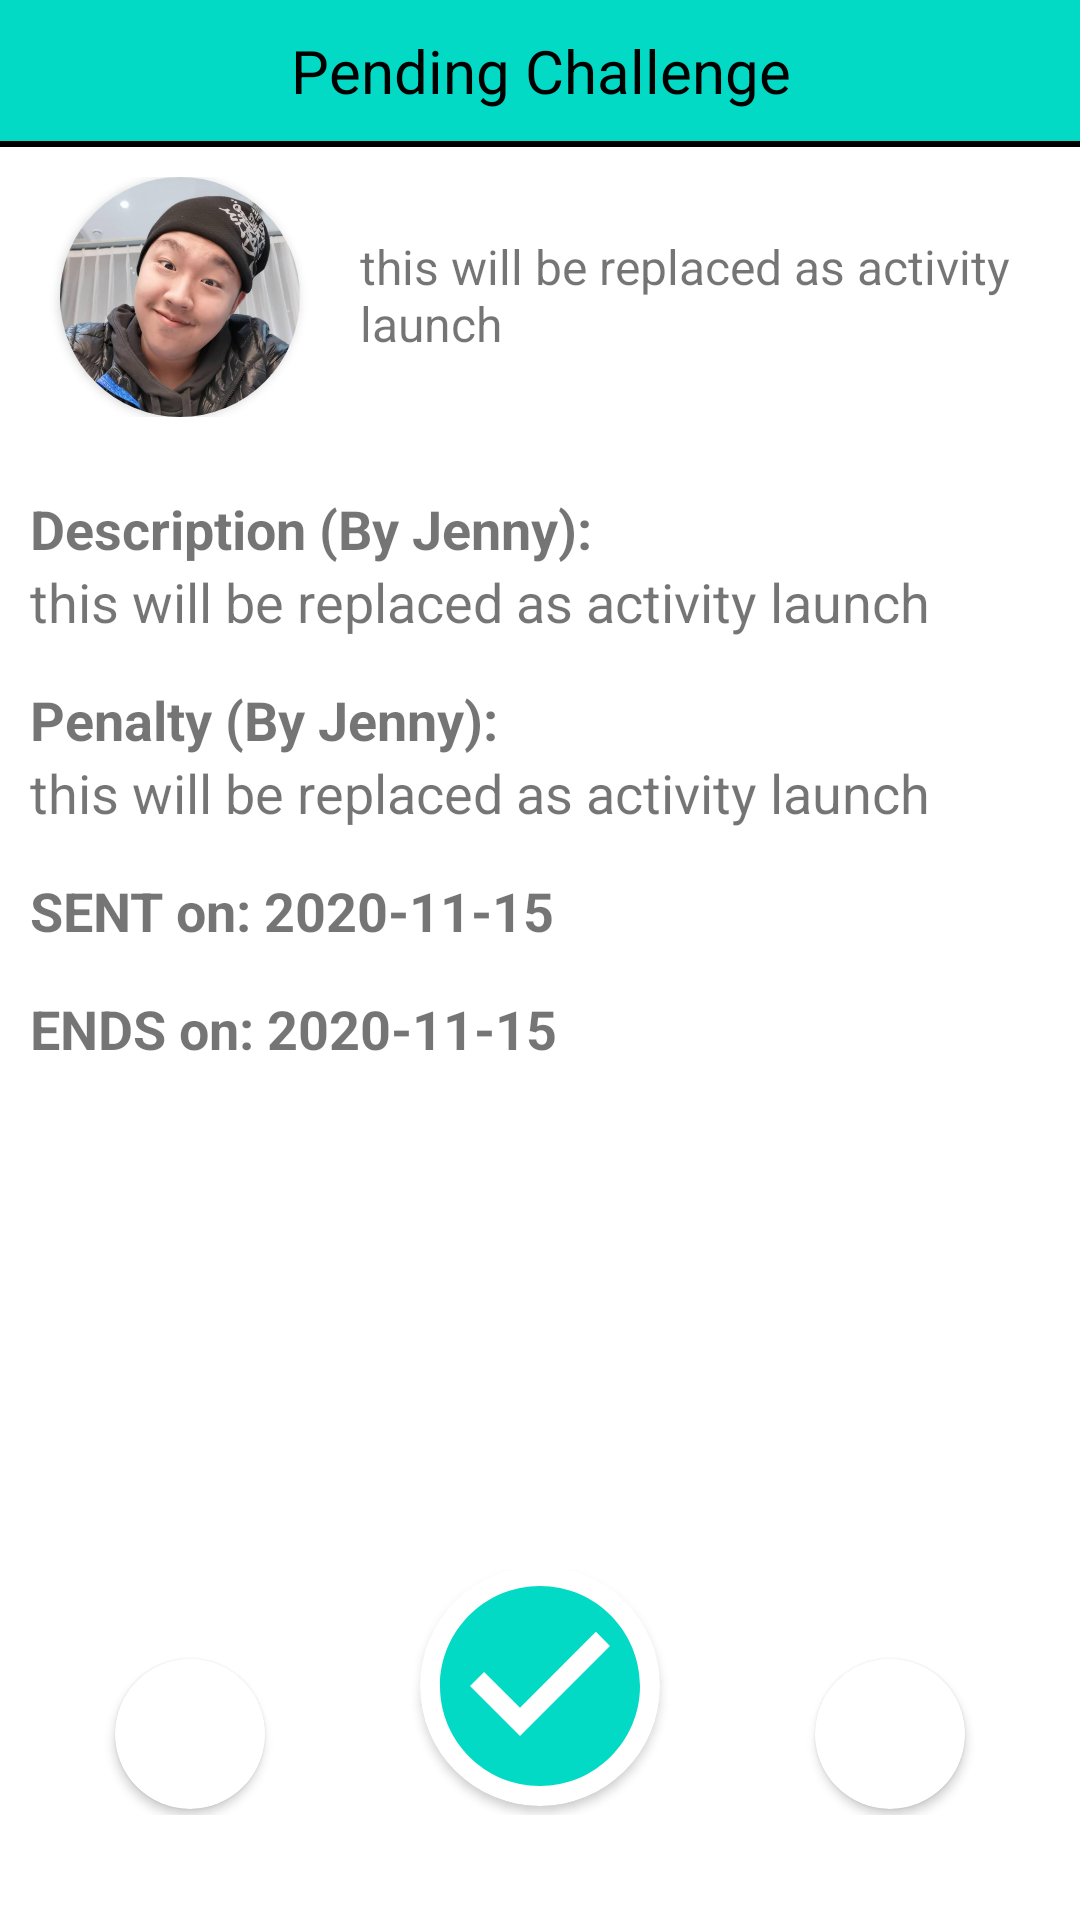

Icon click points for this 1080w x 1920h phone screenshot, format (x=x, y=y):
accept: (x=540, y=1686)
